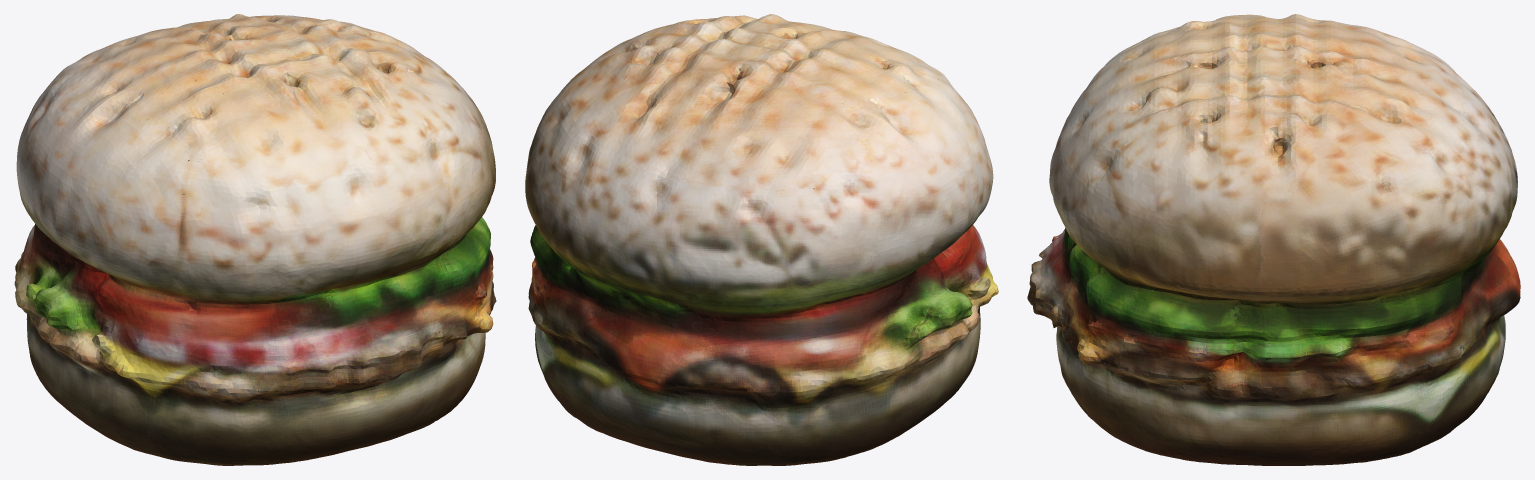
The model's file is a hamburger._10.glb.
3 views of the same model, side by side, from view 1: azimuth 30°, elevation 25°; view 2: azimuth 150°, elevation 25°; view 3: azimuth 270°, elevation 25° (orthographic). The views are drawn at different scales.
Size of the model in its own units: 0.8541 by 0.6721 by 0.8785.
1 material, 1 textured.
